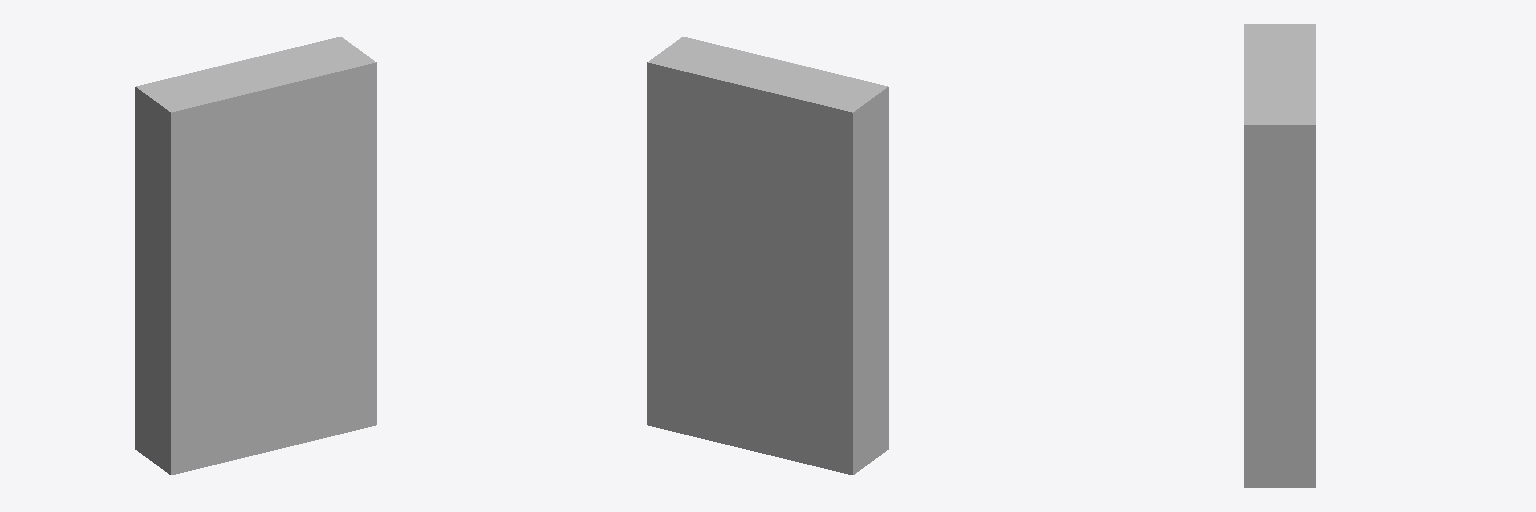
Rendered from Skecth2.obj.
3 views of the same model, side by side, from view 1: azimuth 30°, elevation 25°; view 2: azimuth 150°, elevation 25°; view 3: azimuth 270°, elevation 25° (orthographic).
Parts seen in each view (by area): view 1: Mesh1 Skrin2_1 Model; view 2: Mesh1 Skrin2_1 Model; view 3: Mesh1 Skrin2_1 Model.
Boxes of the visible parts, x1=… form: Mesh1 Skrin2_1 Model: x1=135, y1=37, x2=376, y2=474; Mesh1 Skrin2_1 Model: x1=647, y1=37, x2=888, y2=474; Mesh1 Skrin2_1 Model: x1=1244, y1=24, x2=1315, y2=487.
Size of the model in its own units: 1.5 by 2.53 by 0.45.